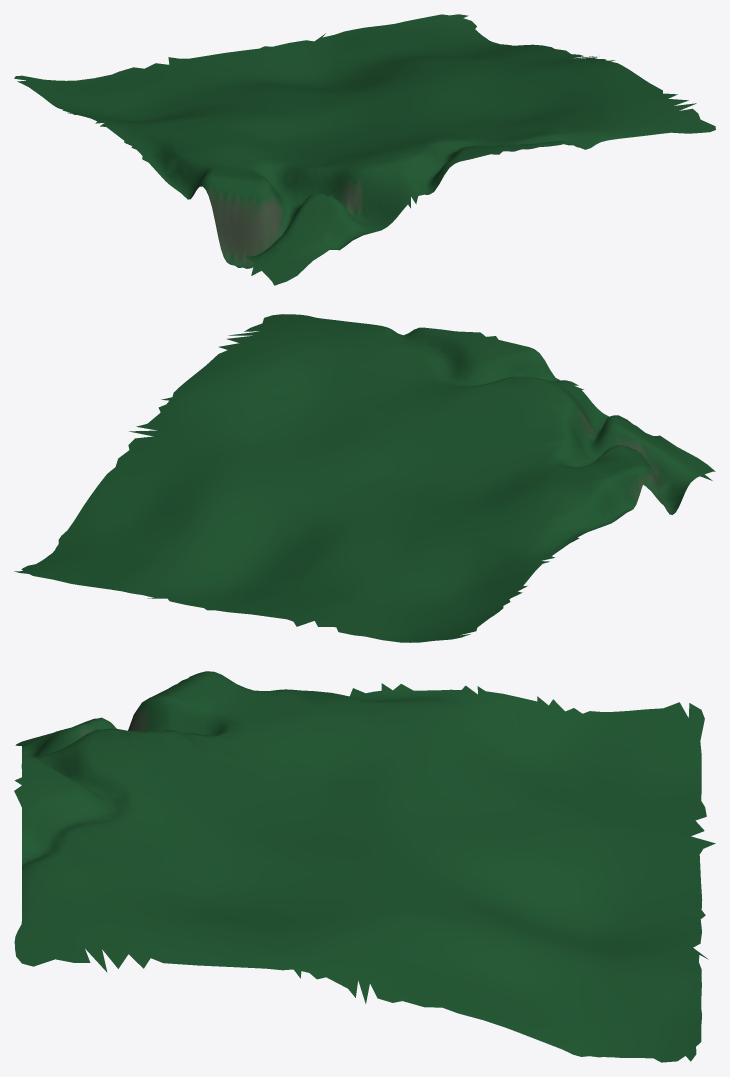
Rendered from payo_land_xm3_y3_lod1.glb.
3 renders of one model, top to bottom at view 1: azimuth 30°, elevation 25°; view 2: azimuth 150°, elevation 25°; view 3: azimuth 270°, elevation 25°, orthographic. The views are drawn at different scales.
Visible parts, largest first — view 1: payo_land_xm3_y3; view 2: payo_land_xm3_y3; view 3: payo_land_xm3_y3.
Part boxes in pixels (x1,y1,x2,y2): payo_land_xm3_y3: (14,14,715,285); payo_land_xm3_y3: (14,314,715,642); payo_land_xm3_y3: (14,671,715,1062).
Bounding box in the file's own units: 268 × 57.29 × 263.
